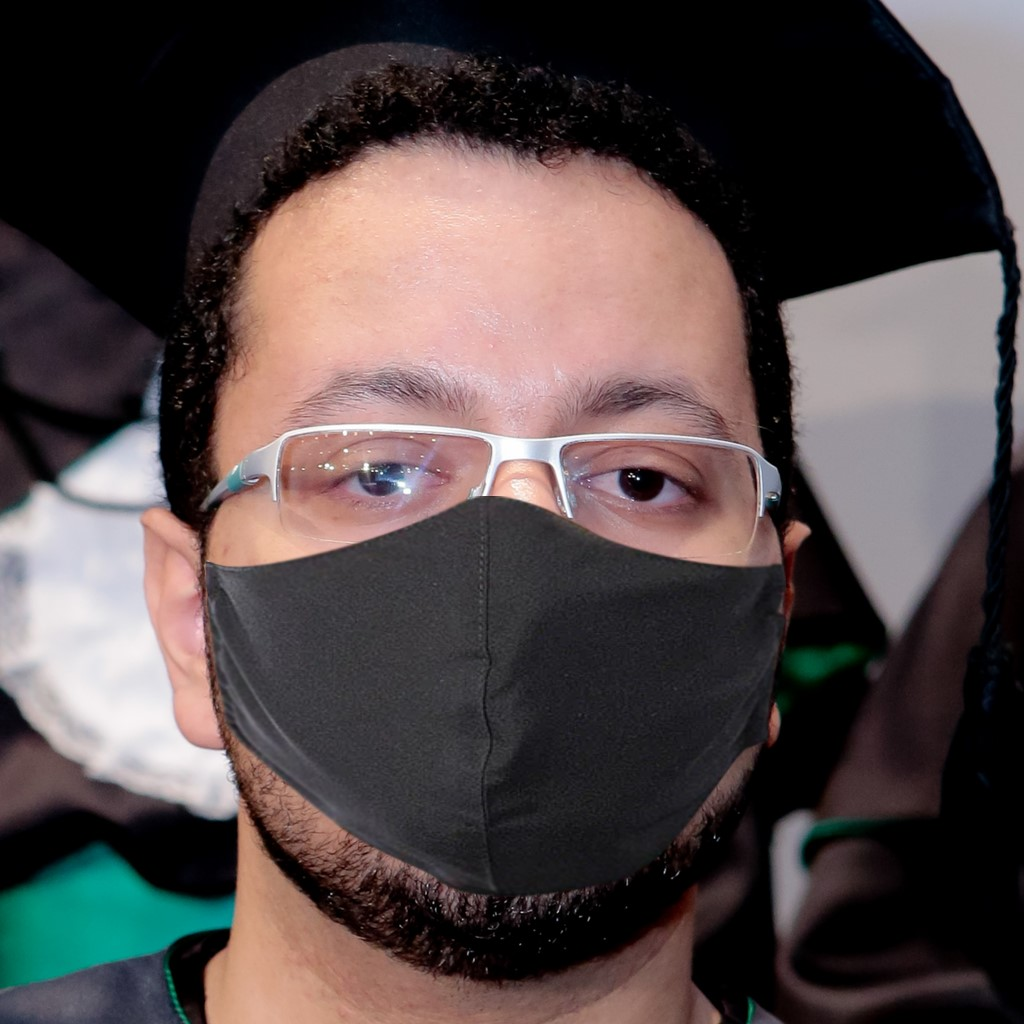con_mascara: (170, 157, 796, 967)
